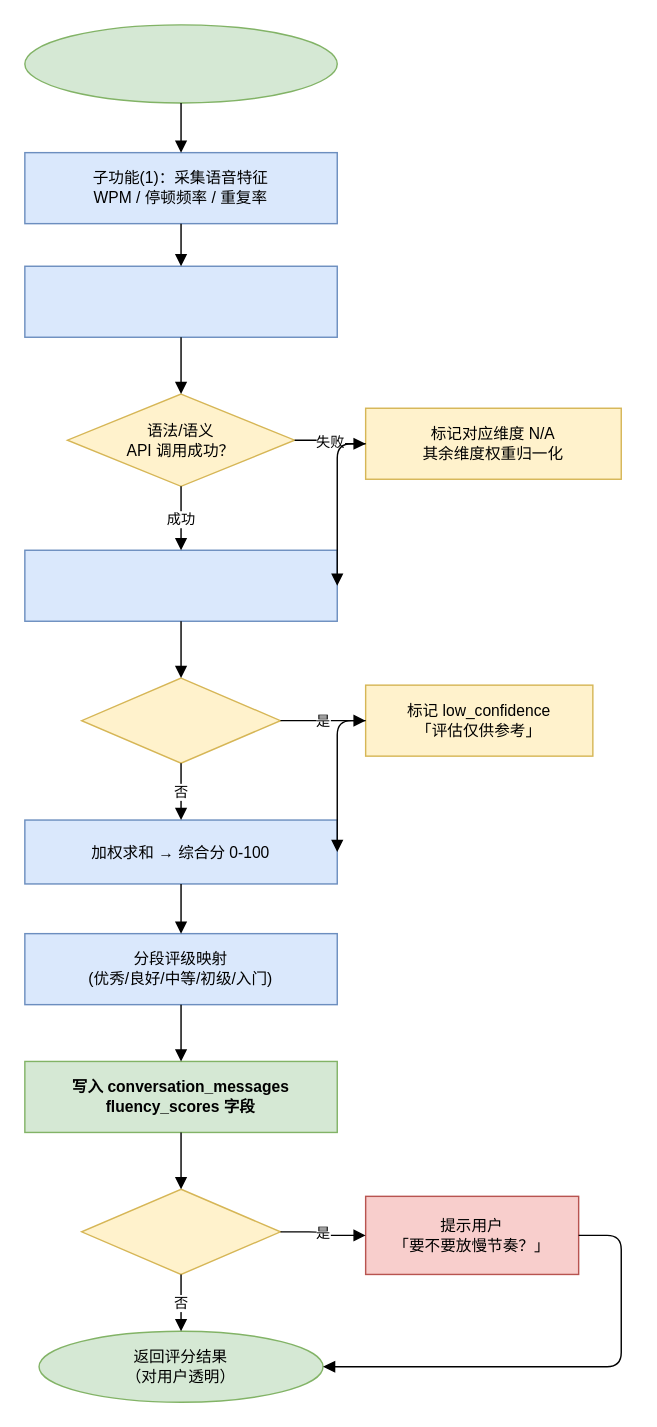
The diagram is 657 pixels wide and 1427 high, and some of its shapes have lost their labels. The box of each missing label's shape, as (x1, y1, x2, y2) in pixels:
五维分数映射计算 语速/停顿/重复/语法/相关性: (23, 549, 337, 621)
回复 < 3 词？: (80, 677, 280, 763)
子功能(3)：语法+语义分析 Deepseek 语法检查 + 场景相关性: (23, 265, 337, 337)
模块6每轮对话： 用户语音→Whisper转写完成: (23, 23, 337, 103)
连续3轮下降？: (80, 1188, 280, 1274)
